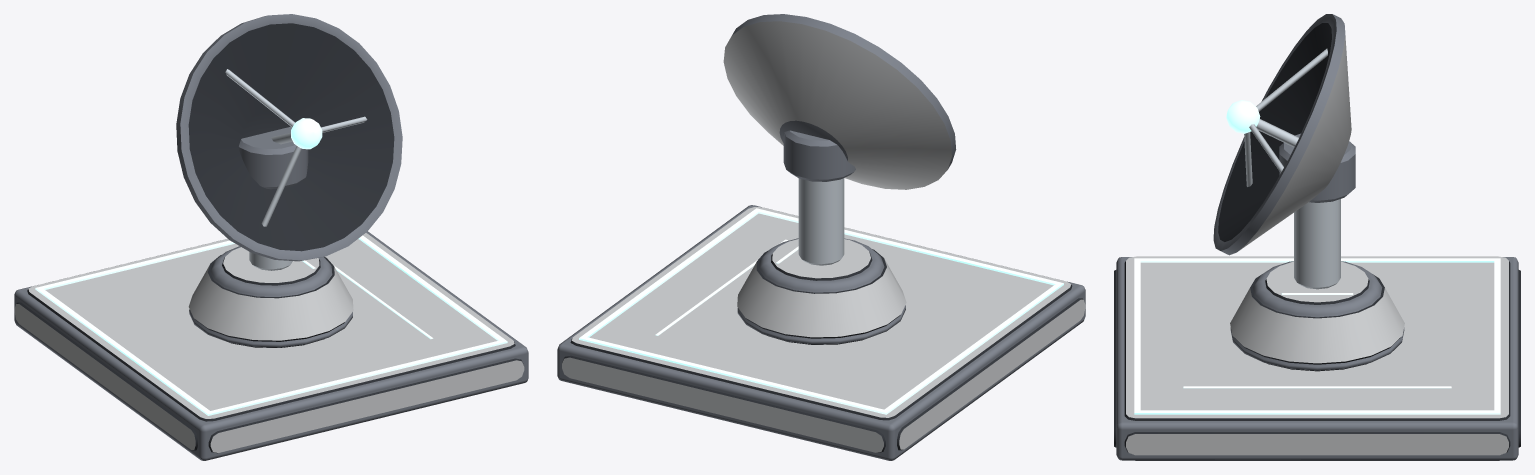
The model's file is R4X_Radar.fbx.
3 views of the same model, side by side, from view 1: azimuth 30°, elevation 25°; view 2: azimuth 150°, elevation 25°; view 3: azimuth 270°, elevation 25° (orthographic). The views are drawn at different scales.
Parts seen in each view (by area): view 1: R4X_Radar_Body, R4X_Radar_Dish; view 2: R4X_Radar_Body, R4X_Radar_Dish; view 3: R4X_Radar_Body, R4X_Radar_Dish.
Boxes of the visible parts, x1,y1,x2,y2 form: R4X_Radar_Body: (14,231,528,460); R4X_Radar_Dish: (176,14,402,261); R4X_Radar_Body: (557,178,1085,460); R4X_Radar_Dish: (723,14,956,189); R4X_Radar_Body: (1114,199,1520,460); R4X_Radar_Dish: (1213,14,1355,255).
Size of the model in its own units: 0.52 by 0.4976 by 0.52.
